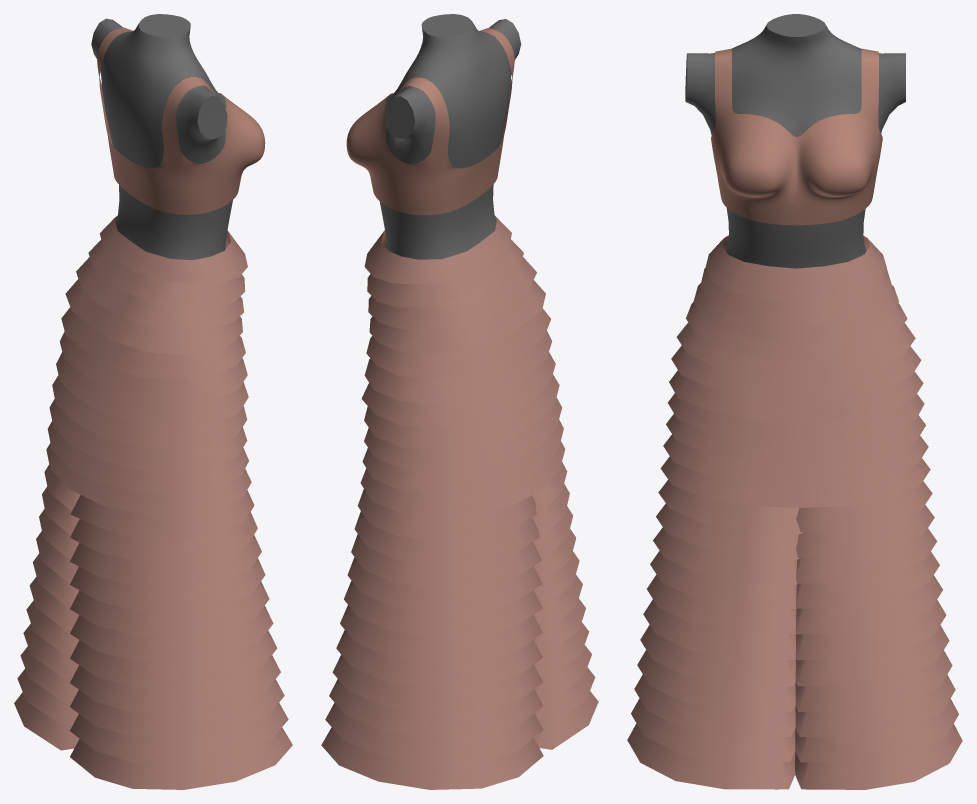
3 renders of one model, left to right at view 1: azimuth 30°, elevation 25°; view 2: azimuth 150°, elevation 25°; view 3: azimuth 270°, elevation 25°, orthographic. The views are drawn at different scales.
Visible parts, largest first — view 1: Inferior, Manequim1, Superior; view 2: Inferior, Manequim1, Superior; view 3: Inferior, Manequim1, Superior.
Boxes of the visible parts, bbox=[...] form: Inferior: bbox=[14, 216, 292, 789]; Manequim1: bbox=[91, 14, 232, 259]; Superior: bbox=[97, 27, 265, 214]; Inferior: bbox=[321, 216, 598, 789]; Manequim1: bbox=[379, 14, 521, 259]; Superior: bbox=[346, 28, 514, 215]; Inferior: bbox=[627, 235, 962, 789]; Manequim1: bbox=[685, 14, 905, 268]; Superior: bbox=[711, 48, 882, 225].
Size of the model in its own units: 2.51 by 8.97 by 3.72.
